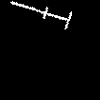double_crochet: (11, 1, 71, 28)
